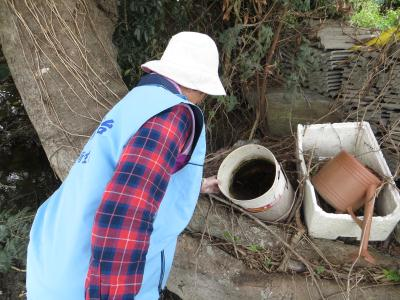bowl: (308, 146, 385, 214)
bucket: (214, 140, 295, 226)
styrofoam: (294, 118, 400, 243)
